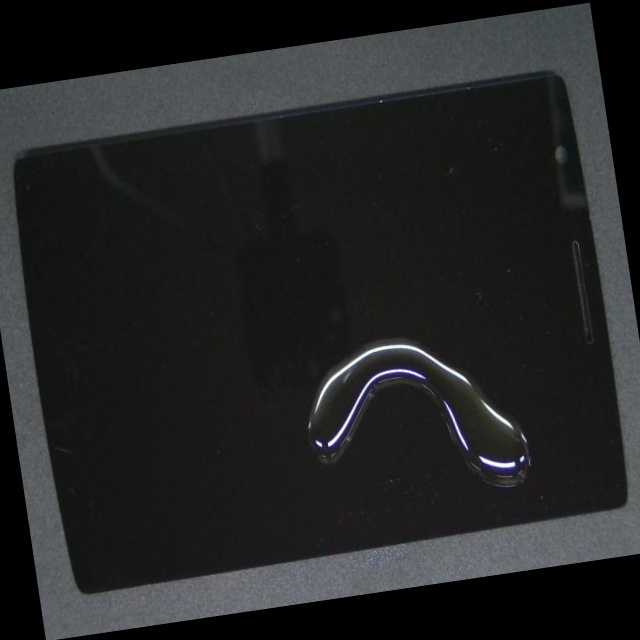oil: (155, 116, 640, 612)
